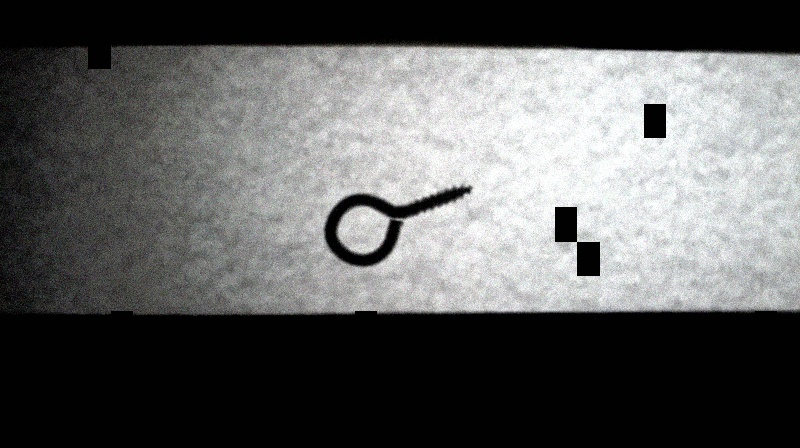O001: (320, 180, 476, 269)
